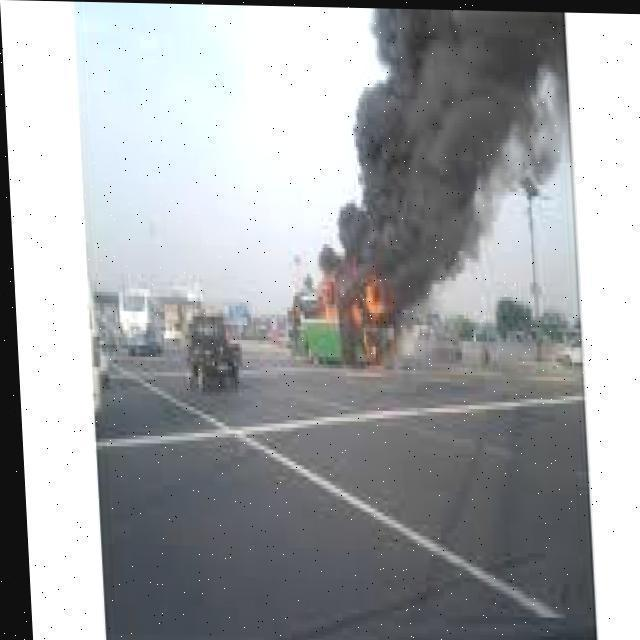Fire: (286, 257, 401, 327)
